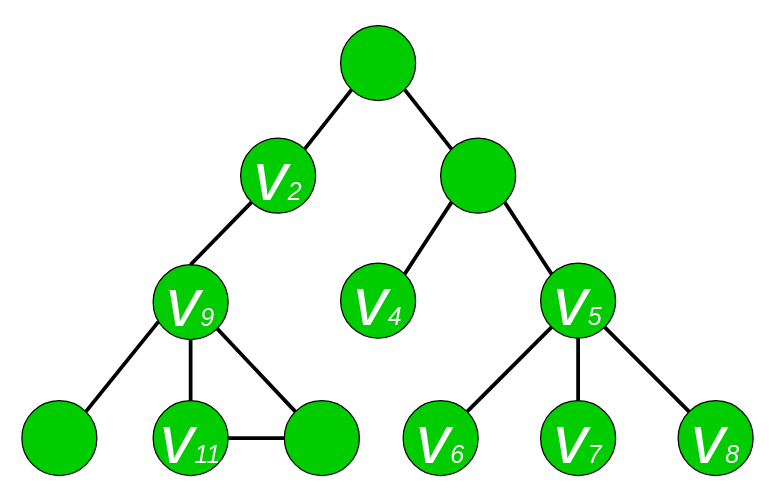
The diagram is 775 pixels wide and 501 high, and some of its shapes have lost their labels. The shapes that lost their labels are listed below. From the top down, each one's box as (x1, y1, x2, y2) in pixels, then its label:
(339, 24, 416, 101): v 1
(439, 137, 516, 213): v 3
(21, 399, 97, 476): v 10
(283, 399, 359, 476): v 12
